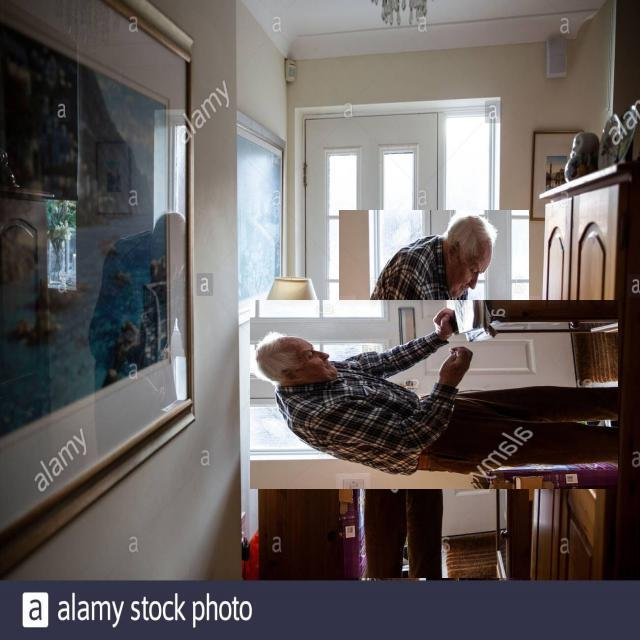NotFall: (102, 143, 640, 494)
